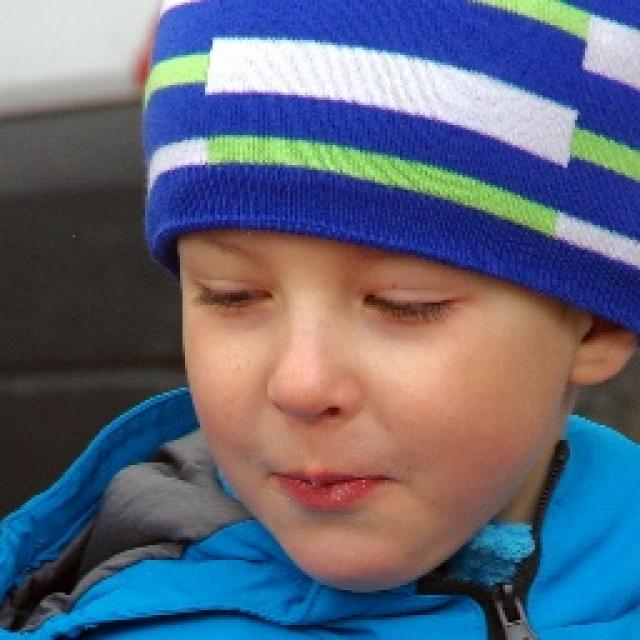earlobe: (568, 352, 627, 389)
eye: (188, 272, 279, 316), (362, 288, 469, 322)
nose: (270, 404, 360, 452)
wholeear: (567, 267, 640, 389)
